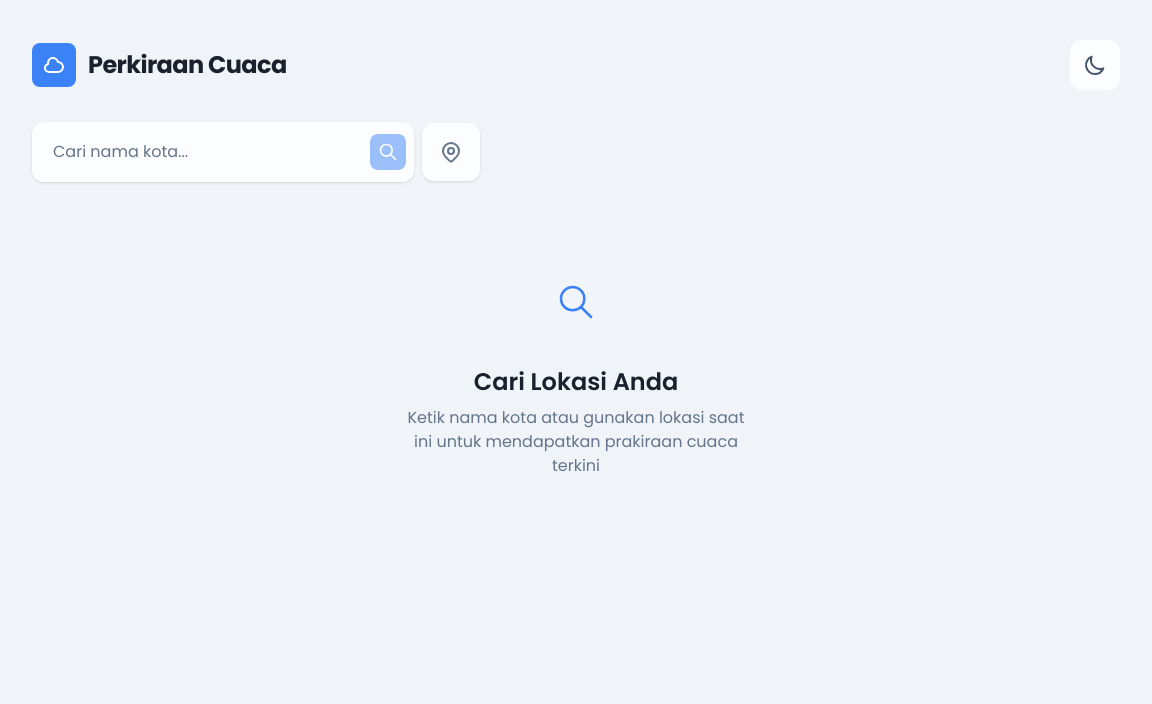
Weather App Integration › searches for a city and displays weather data
The image size is (1152, 704).
Type "Jakarta" into the field with placeholder "Cari nama kota..." at [223, 152], box [32,122,414,182]
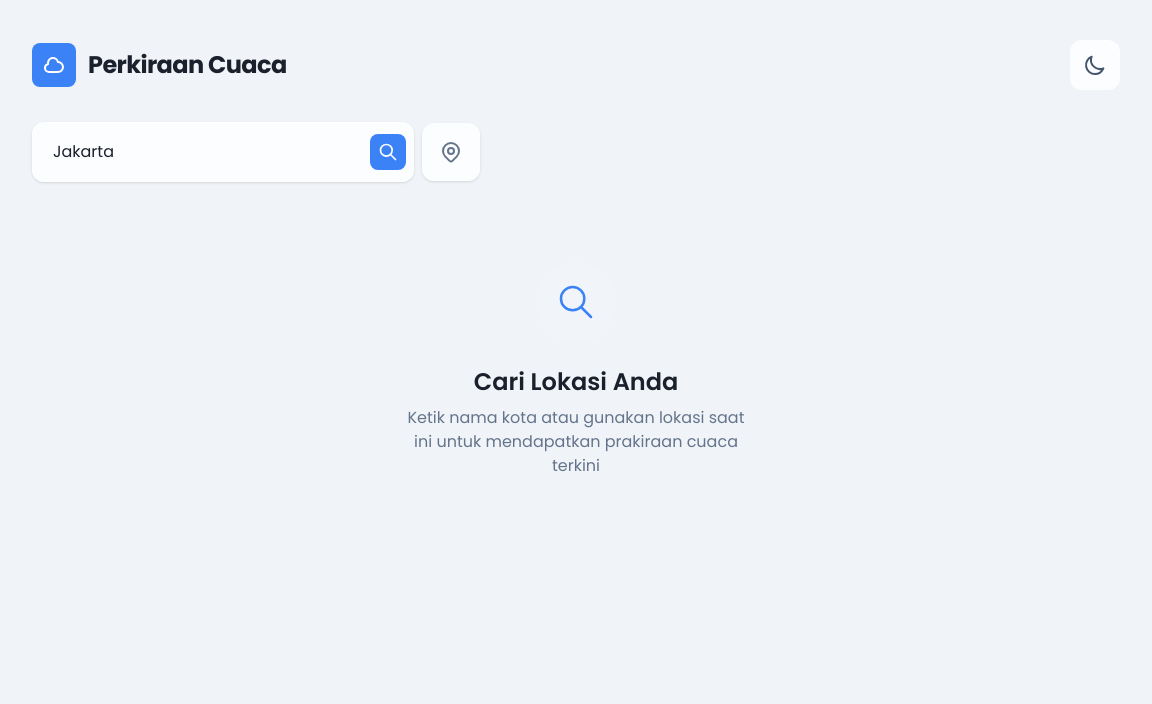
Click the button named "Cari" at [388, 152], box [370,134,406,170]
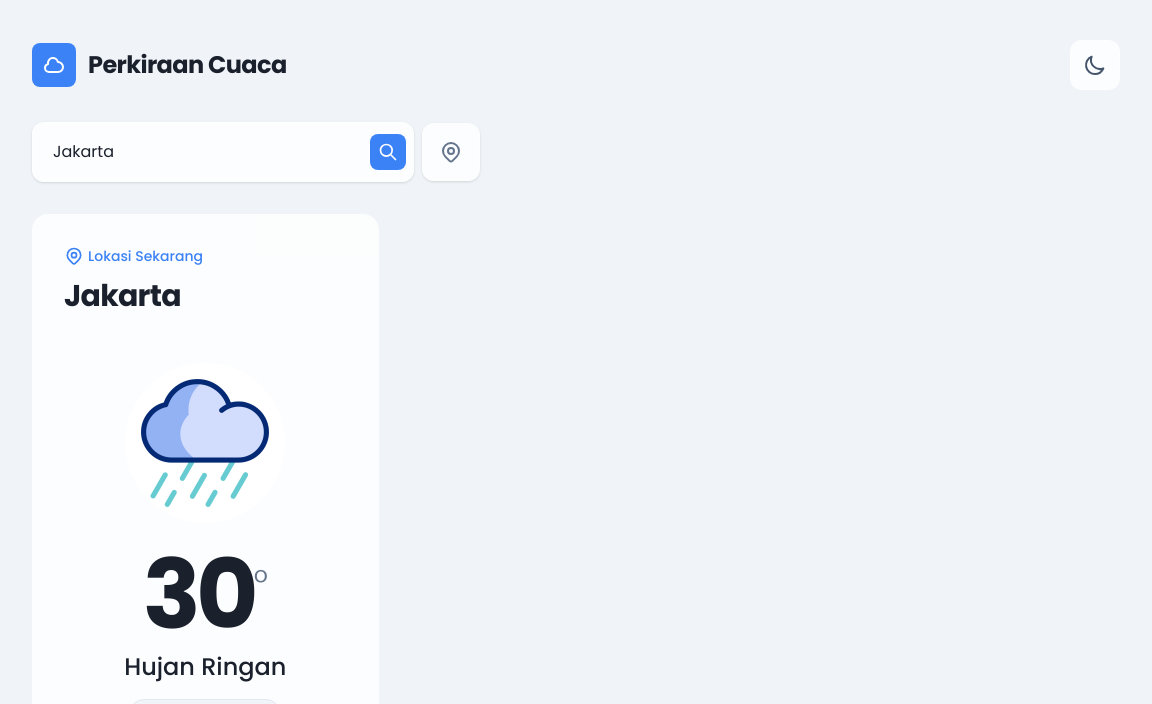
Check: the heading "Jakarta" is shown, box [64,275,181,317]
Check: the text "30" is shown, box [143,547,254,643]
Check: the text "hujan ringan" is shown, box [124,651,286,683]
